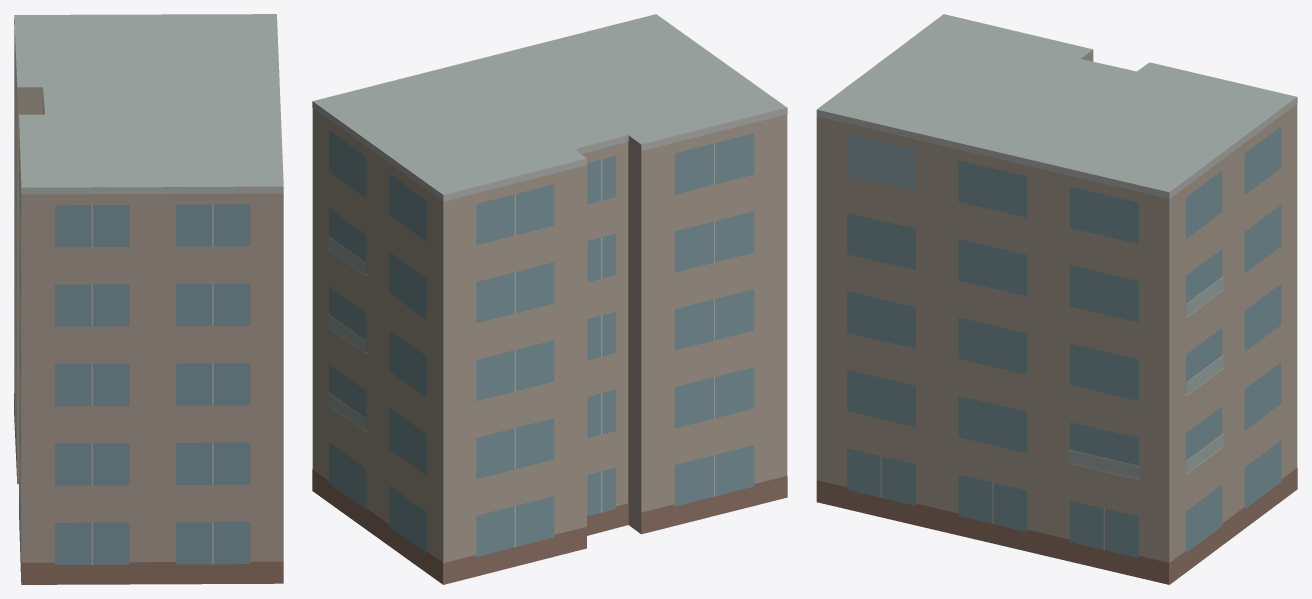
File: survey-upis-32883259.glb
3 views of the same model, side by side, from view 1: azimuth 30°, elevation 25°; view 2: azimuth 150°, elevation 25°; view 3: azimuth 270°, elevation 25° (orthographic).
Visible parts, largest first — view 1: survey-upis-32883259.tmp; view 2: survey-upis-32883259.tmp; view 3: survey-upis-32883259.tmp.
Part boxes in pixels (x1,y1,x2,y2): survey-upis-32883259.tmp: [14, 14, 283, 584]; survey-upis-32883259.tmp: [312, 14, 787, 584]; survey-upis-32883259.tmp: [816, 14, 1297, 584].
Size of the model in its own units: 14.09 by 14.45 by 16.05.
